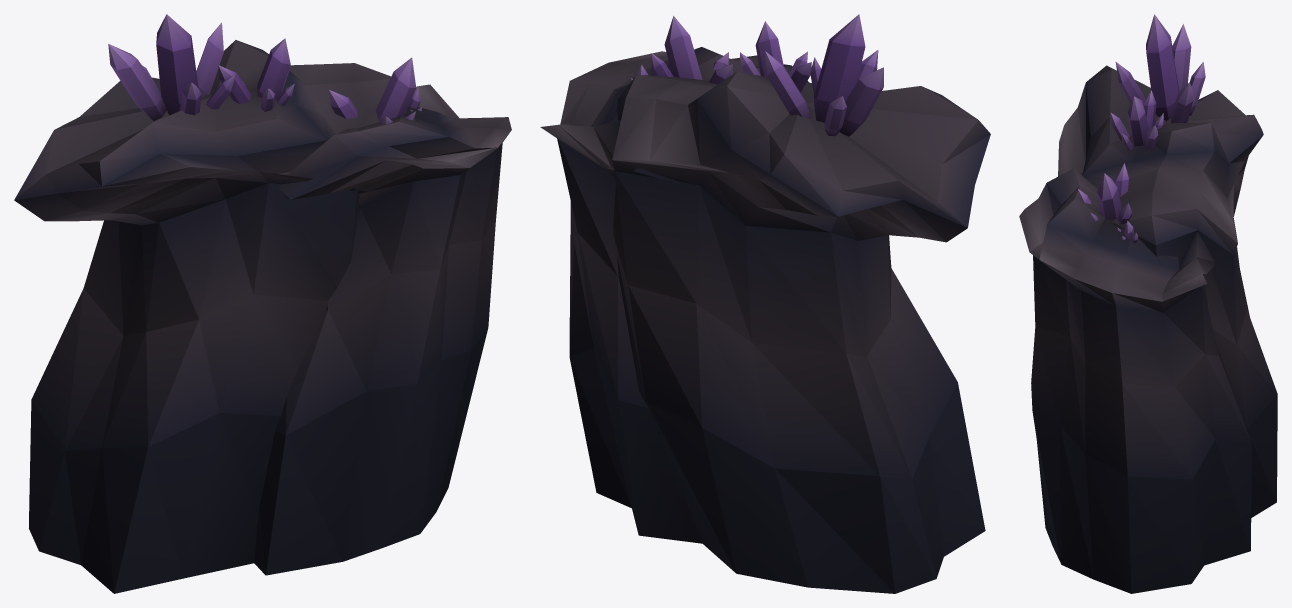
File: grotto-fault-shelf.glb
The picture shows the model from 3 angles, left to right: view 1: azimuth 30°, elevation 25°; view 2: azimuth 150°, elevation 25°; view 3: azimuth 270°, elevation 25°; orthographic projection. The views are drawn at different scales.
Visible parts, largest first — view 1: grotto-fault-shelf; view 2: grotto-fault-shelf; view 3: grotto-fault-shelf.
Boxes of the visible parts, <box> form: grotto-fault-shelf: <box>14,14,511,593</box>; grotto-fault-shelf: <box>540,14,990,593</box>; grotto-fault-shelf: <box>1019,14,1277,593</box>.
Bounding box in the file's own units: 14 × 15.79 × 7.95.
